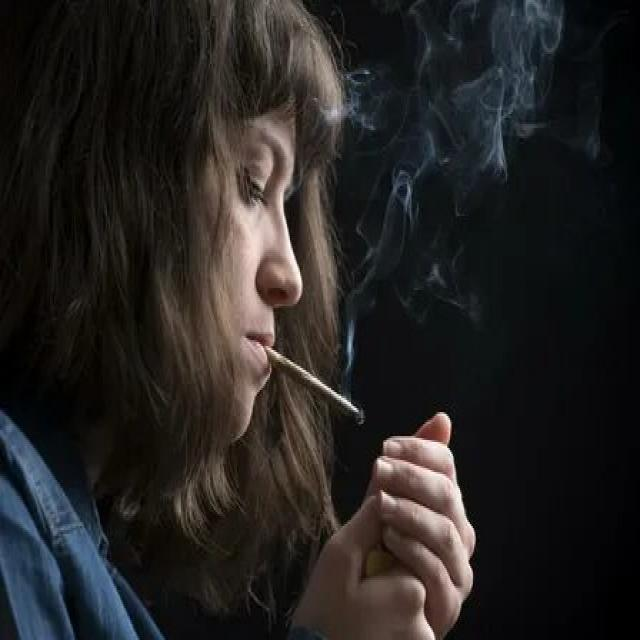smoke: (257, 338, 370, 428)
